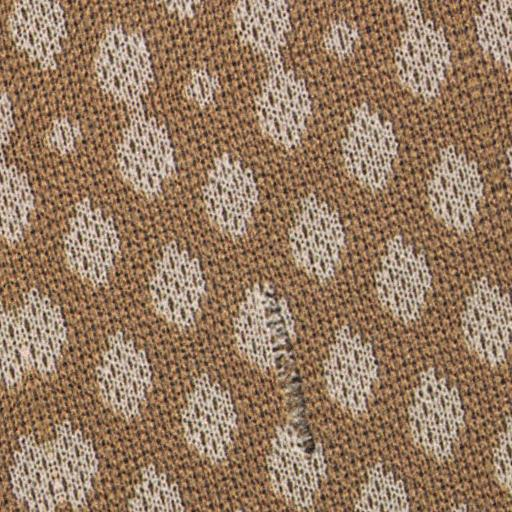slub: (251, 264, 333, 466)
